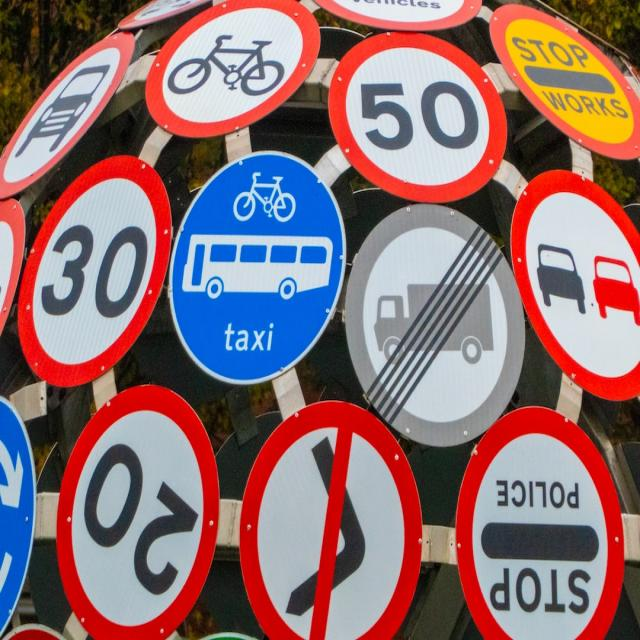no overtaking: (514, 168, 640, 396)
